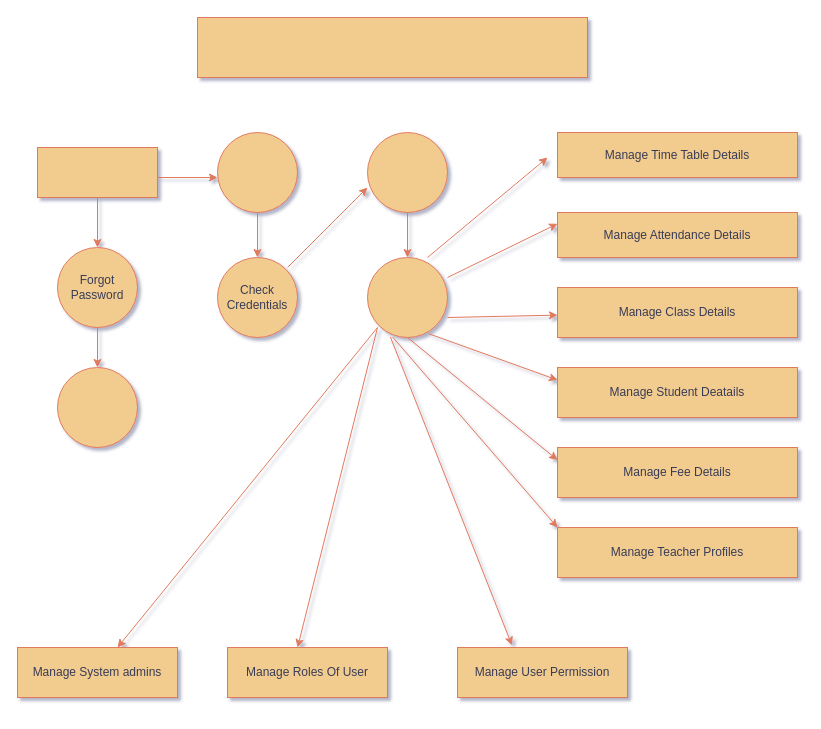
This 821x729 diagram has some shape labels left out. Each missing label, with the centre of its shape:
"Admin" belongs at (97,172).
"Check Roles of Access" belongs at (407,172).
"Login to System" belongs at (257,172).
"Manage modules" belongs at (407,297).
"Send Email to user" belongs at (97,407).
"Student Information System" belongs at (392,47).
